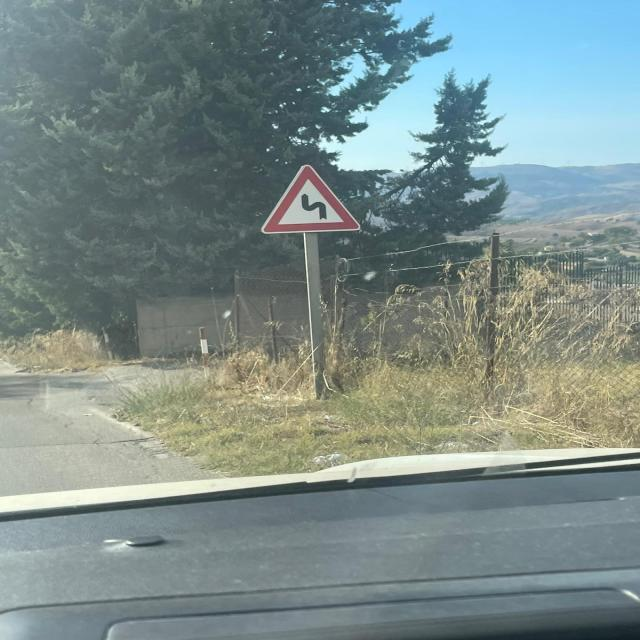warn_double_curve: (258, 162, 362, 234)
